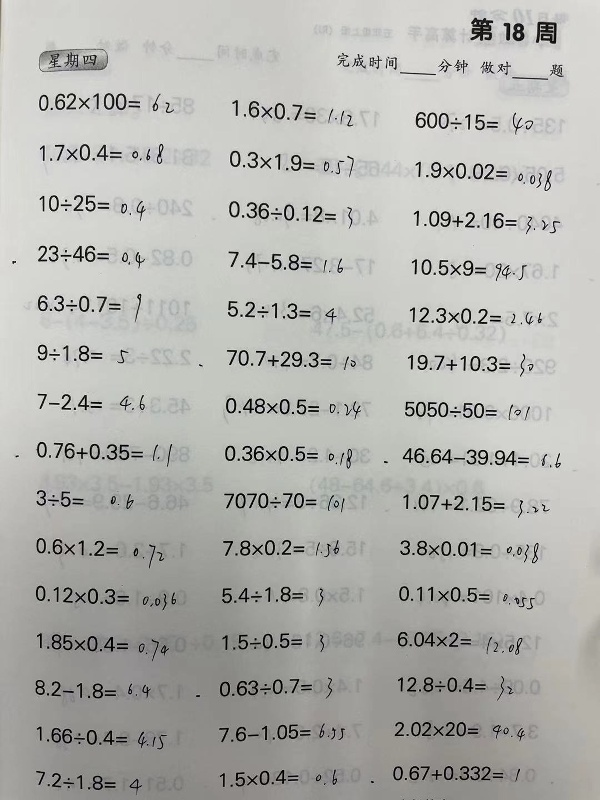equation: (401, 439, 565, 475), (30, 534, 168, 573), (30, 578, 180, 608), (393, 626, 525, 659), (31, 438, 174, 468), (410, 158, 555, 187), (398, 490, 553, 517), (408, 206, 562, 233), (395, 536, 541, 564), (393, 671, 516, 704), (32, 631, 171, 660), (214, 673, 336, 706), (403, 350, 537, 380), (33, 87, 176, 115), (223, 198, 356, 227), (224, 148, 357, 177), (35, 139, 167, 168), (219, 441, 355, 469), (393, 582, 537, 608), (34, 484, 137, 520), (32, 290, 146, 322), (32, 723, 169, 749), (220, 394, 362, 419), (410, 107, 536, 135), (216, 582, 328, 613), (214, 718, 347, 744), (390, 716, 527, 741), (222, 345, 358, 370), (218, 487, 347, 513), (227, 98, 356, 124), (387, 760, 522, 784), (219, 535, 343, 561), (405, 303, 544, 326), (34, 190, 148, 218), (407, 255, 529, 281), (400, 397, 532, 421), (216, 628, 326, 656), (33, 240, 147, 267), (30, 676, 153, 701), (223, 248, 345, 273), (37, 389, 149, 416), (30, 769, 144, 795), (215, 765, 341, 788), (222, 298, 339, 322), (32, 340, 130, 365)
